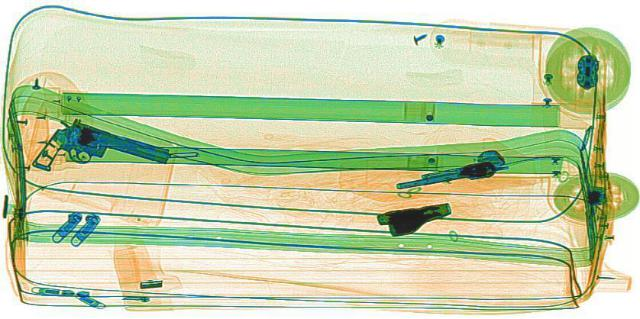Gun: (8, 120, 178, 193), (378, 146, 518, 193), (370, 202, 462, 235)
